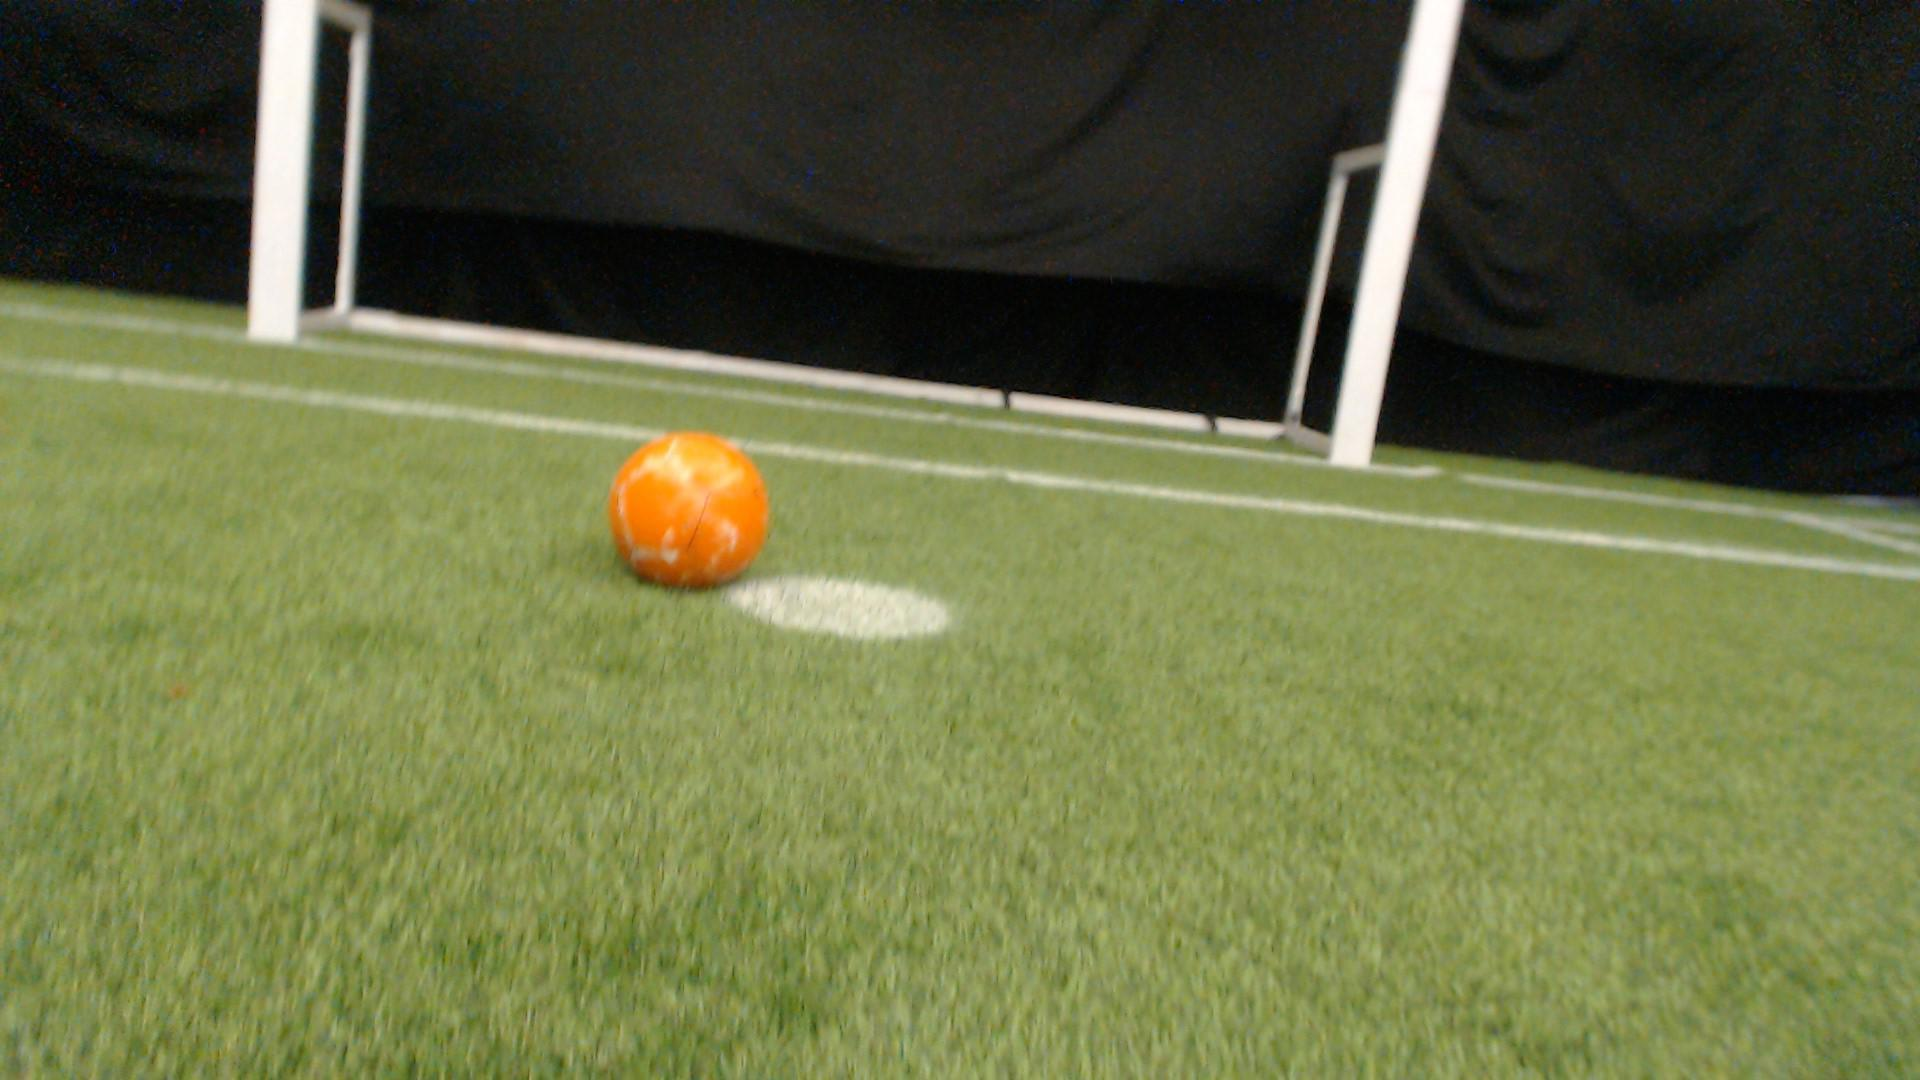bola: (595, 402, 786, 604)
